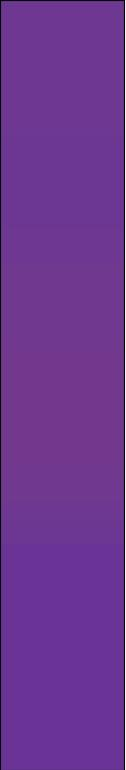safe: (4, 5, 115, 761)
